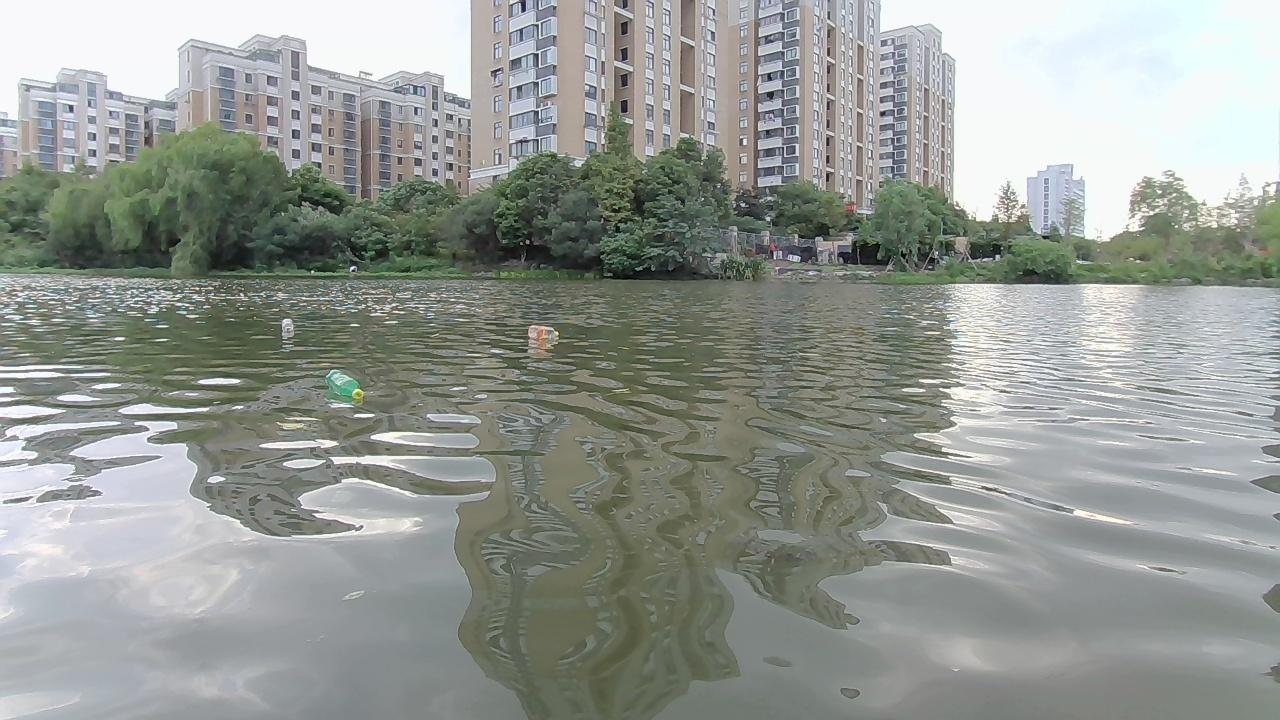bottle: (323, 367, 361, 398), (527, 322, 558, 344), (281, 316, 295, 335)
